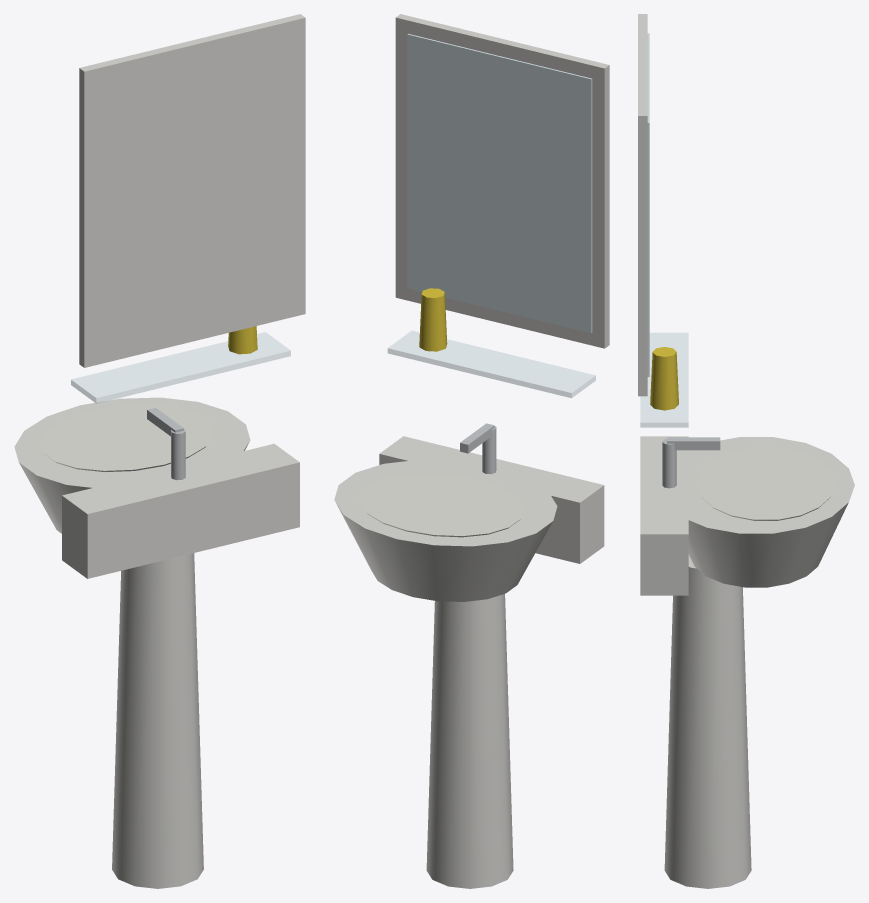
The model's file is basin.glb.
3 views of the same model, side by side, from view 1: azimuth 30°, elevation 25°; view 2: azimuth 150°, elevation 25°; view 3: azimuth 270°, elevation 25° (orthographic). The views are drawn at different scales.
Visible parts, largest first — view 1: basin; view 2: basin; view 3: basin.
Boxes of the visible parts, x1,y1,x2,y2 form: basin: [14, 14, 305, 888]; basin: [334, 14, 609, 888]; basin: [638, 14, 854, 888].
Size of the model in its own units: 0.5 by 1.84 by 0.449.
